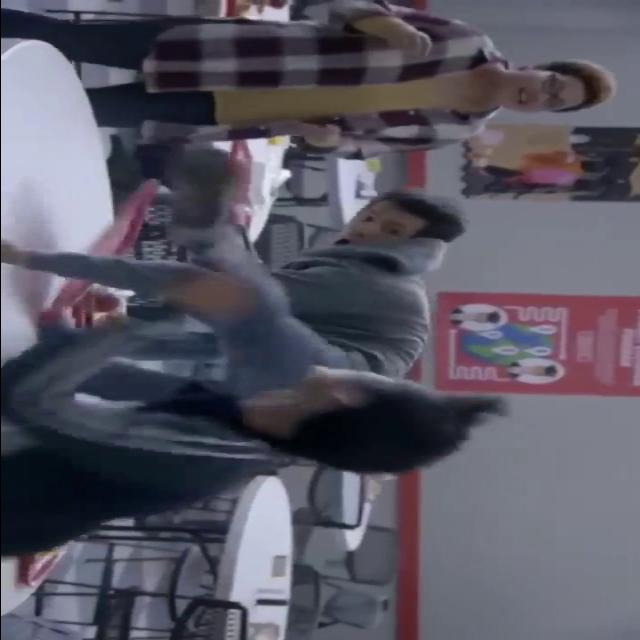NonViolence: (86, 0, 620, 155)
Violence: (0, 159, 477, 551)
